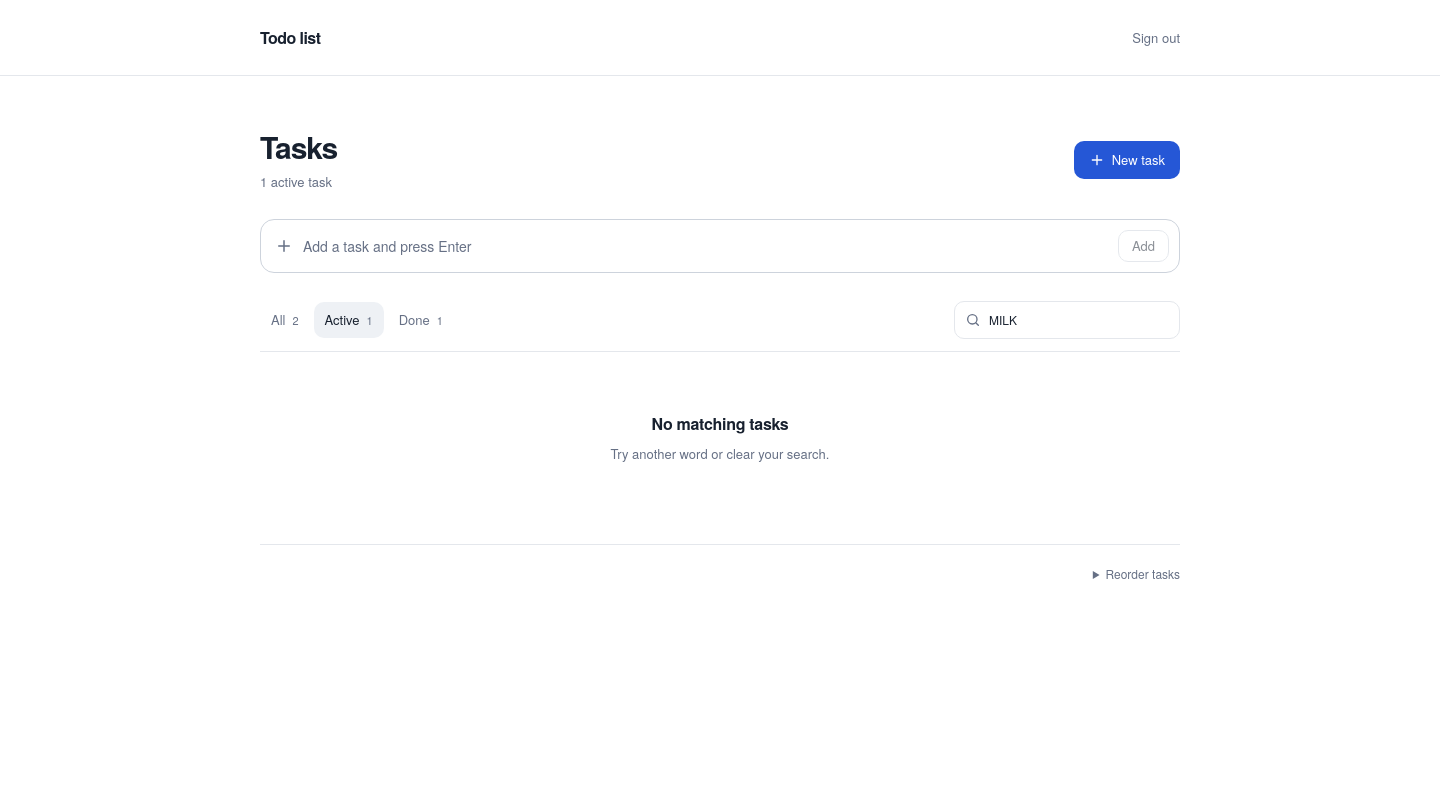
task list › does not warn when a new task matches the current search and filter
Expected: the heading "No matching tasks" is shown, top-left (652, 412), bottom-right (788, 435)
Type "Buy milk" into the field named "New task title" at [706, 246], box top-left (303, 230), bottom-right (1108, 262)
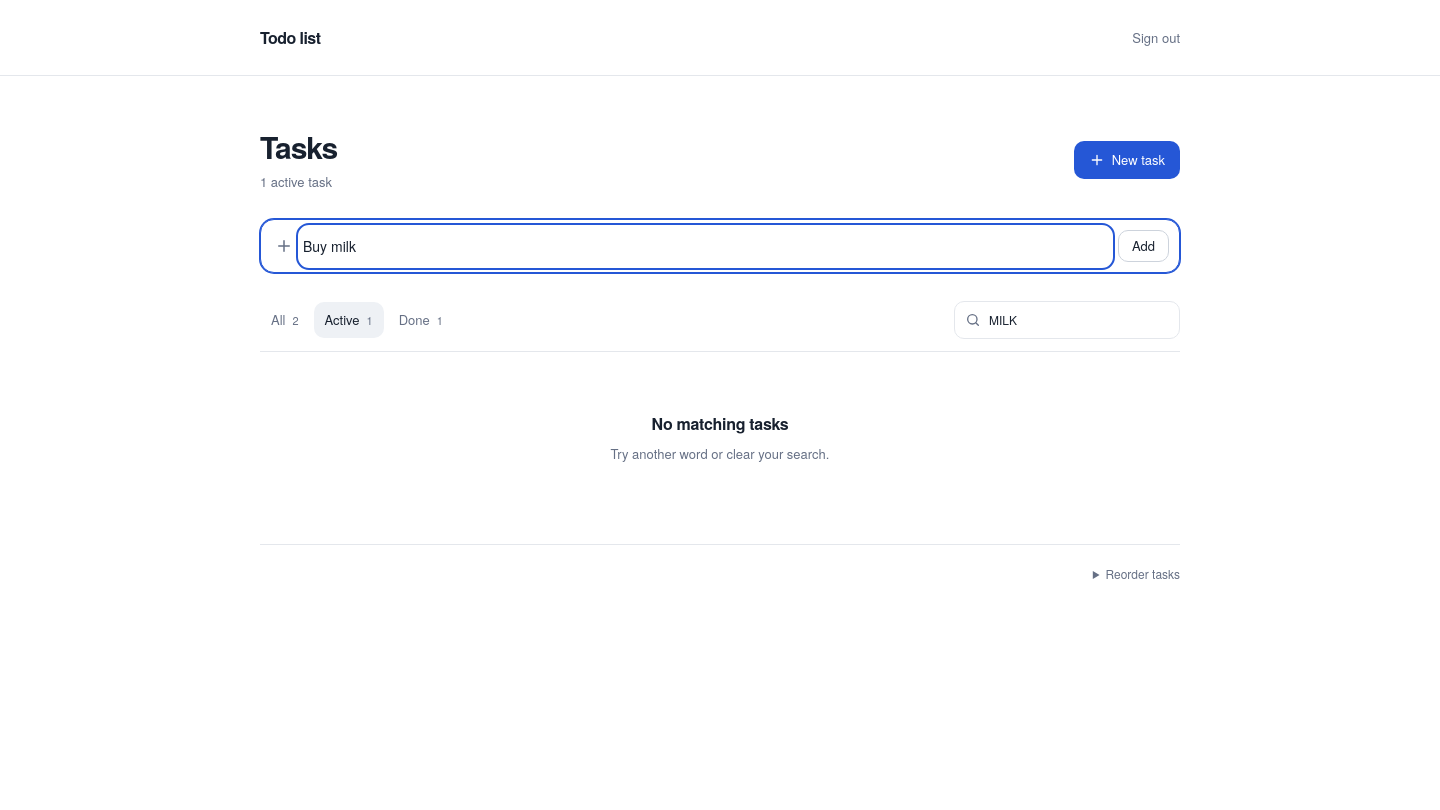
Click the button "Add" at [1144, 246], box top-left (1118, 230), bottom-right (1169, 262)
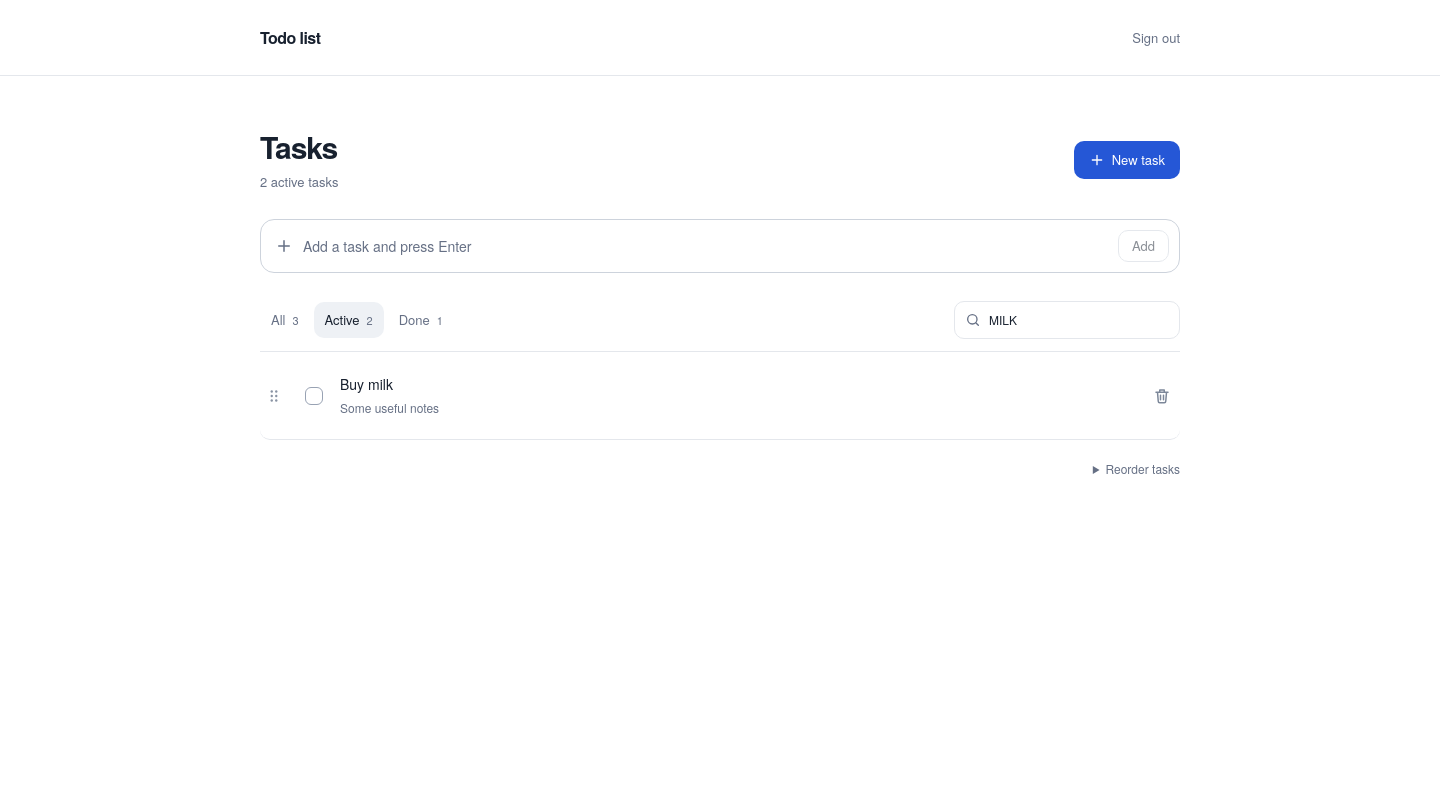
Expected: the link "Buy milk Some useful notes" is shown, top-left (340, 374), bottom-right (439, 416)
